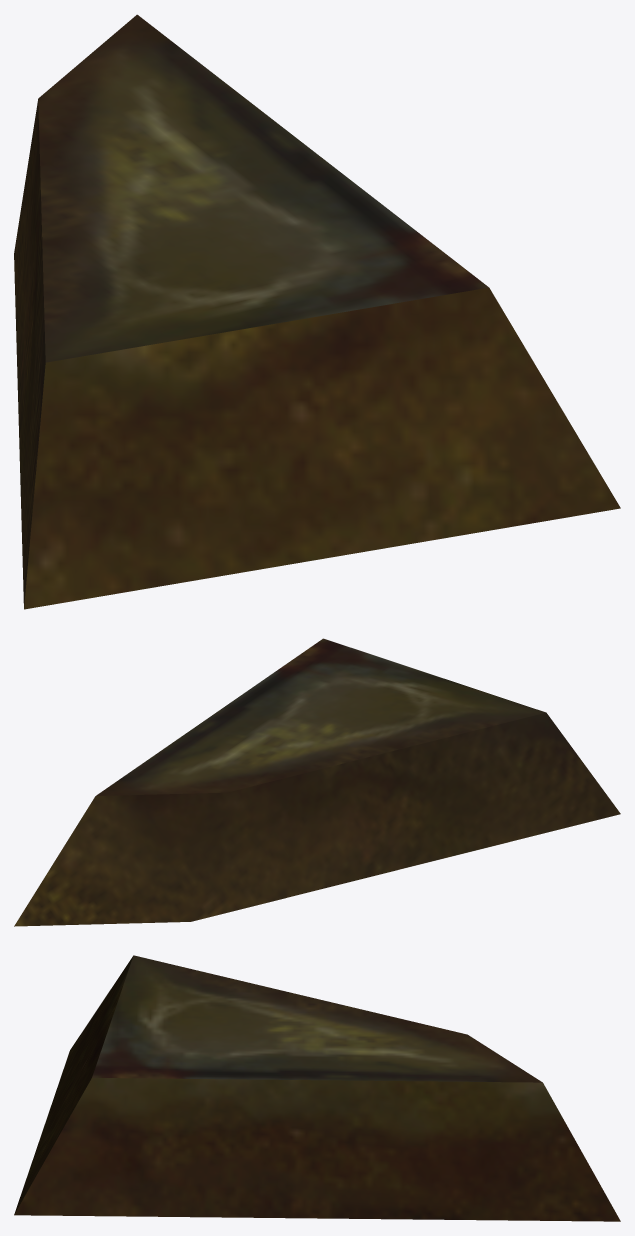
Rendered from C_dizhuan009.fbx.
The picture shows the model from 3 angles, top to bottom: view 1: azimuth 30°, elevation 25°; view 2: azimuth 150°, elevation 25°; view 3: azimuth 270°, elevation 25°; orthographic projection. The views are drawn at different scales.
Parts seen in each view (by area): view 1: C_dizhuan009; view 2: C_dizhuan009; view 3: C_dizhuan009.
Part boxes in pixels (x1,y1,x2,y2): C_dizhuan009: (14,14,620,609); C_dizhuan009: (14,638,620,926); C_dizhuan009: (14,955,620,1221).
Size of the model in its own units: 79.03 by 25.19 by 118.
